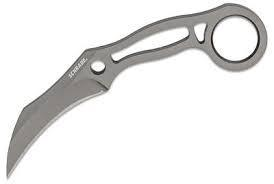Knife: (4, 3, 268, 177)
